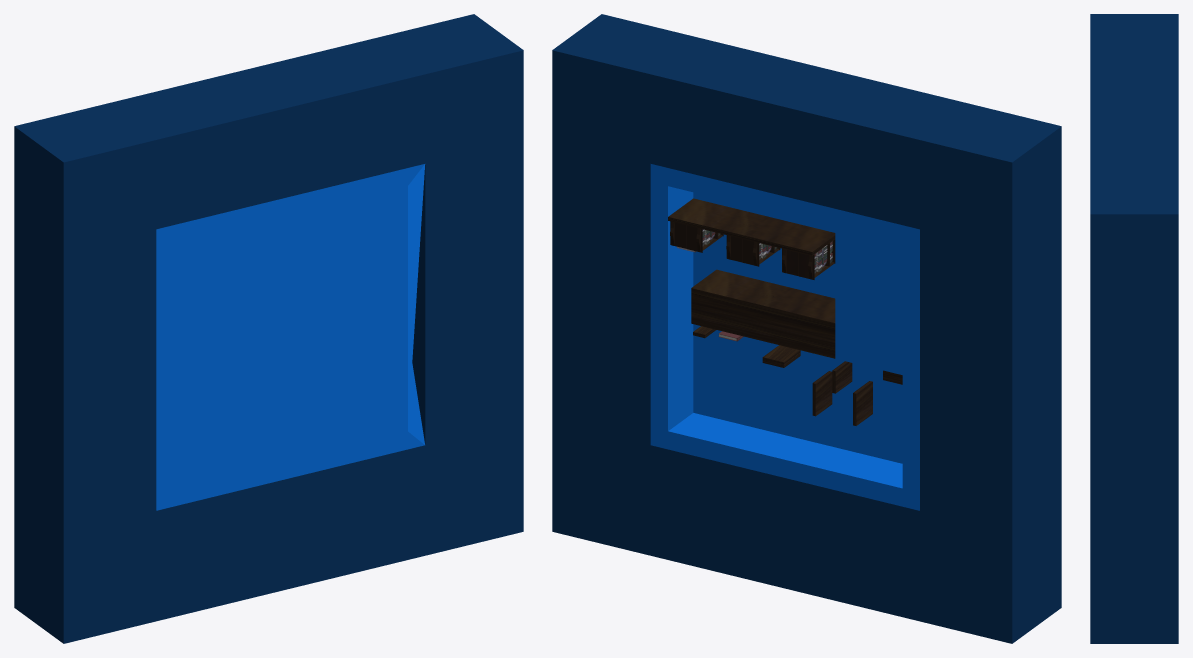
File: FaceF2.glb
The picture shows the model from 3 angles, left to right: view 1: azimuth 30°, elevation 25°; view 2: azimuth 150°, elevation 25°; view 3: azimuth 270°, elevation 25°; orthographic projection. The views are drawn at different scales.
Visible parts, largest first — view 1: paredeTRUETRUE-col.007, PlanoTrue-col.006; view 2: paredeTRUETRUE-col.007, PlanoTrue-col.006, Cubo.001-col, Cubo-col.011, livros.00-col.019, livros.00-col.021, livros.00-col.020, Cubo-col.014, Cubo-col.015; view 3: paredeTRUETRUE-col.007.
Boxes of the visible parts, x1=… form: paredeTRUETRUE-col.007: x1=14, y1=14, x2=523, y2=643; PlanoTrue-col.006: x1=156, y1=164, x2=425, y2=510; paredeTRUETRUE-col.007: x1=552, y1=14, x2=1061, y2=643; PlanoTrue-col.006: x1=650, y1=164, x2=919, y2=510; Cubo.001-col: x1=691, y1=269, x2=835, y2=358; Cubo-col.011: x1=668, y1=198, x2=835, y2=255; livros.00-col.019: x1=782, y1=239, x2=835, y2=279; livros.00-col.021: x1=726, y1=235, x2=780, y2=266; livros.00-col.020: x1=670, y1=221, x2=723, y2=252; Cubo-col.014: x1=812, y1=371, x2=832, y2=416; Cubo-col.015: x1=853, y1=381, x2=872, y2=425; paredeTRUETRUE-col.007: x1=1090, y1=14, x2=1178, y2=643.
Size of the model in its own units: 509 by 509 by 95.
53 materials, 50 textured.
